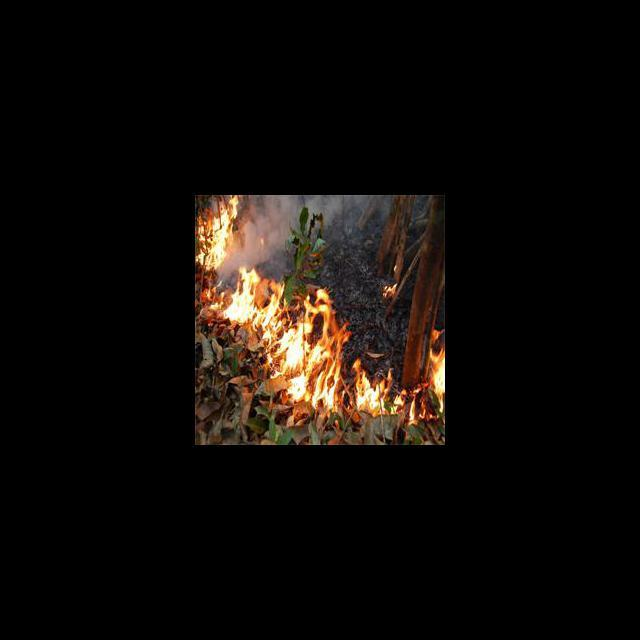Fire: (225, 272, 404, 417), (196, 195, 242, 268), (426, 327, 444, 411), (382, 282, 398, 298)
Smoke: (244, 197, 289, 260)
